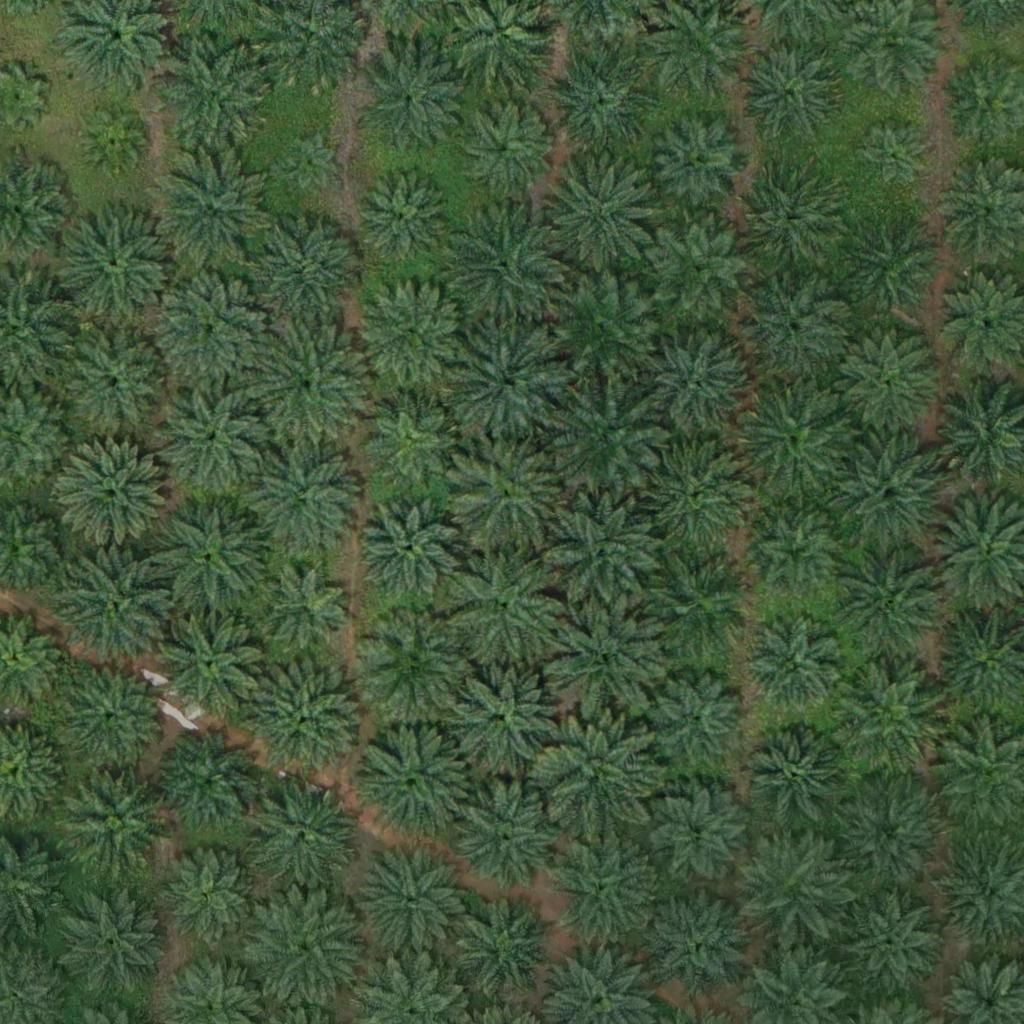Kelapa_Sawit: (543, 267, 656, 381), (449, 203, 562, 317), (355, 47, 468, 161), (550, 377, 663, 491), (835, 543, 948, 657), (449, 325, 562, 438), (152, 149, 265, 262), (156, 272, 269, 385), (58, 209, 171, 322), (58, 439, 171, 552), (151, 384, 264, 497), (154, 498, 267, 611), (155, 603, 268, 716), (249, 663, 362, 776), (359, 722, 472, 835), (450, 438, 563, 551), (545, 497, 658, 610), (547, 603, 660, 716), (541, 718, 654, 831), (739, 376, 852, 489), (836, 436, 949, 549), (355, 844, 468, 957), (246, 779, 359, 892), (251, 893, 364, 1006), (638, 328, 750, 442), (56, 764, 168, 878), (646, 436, 758, 550), (836, 668, 948, 782), (55, 888, 167, 1002), (737, 273, 849, 386), (543, 41, 655, 154), (545, 153, 657, 266), (356, 280, 468, 393), (250, 214, 362, 327), (252, 327, 364, 440), (161, 38, 273, 151), (58, 328, 170, 441), (56, 552, 168, 665), (54, 662, 166, 775), (246, 445, 358, 558), (358, 608, 470, 721), (452, 550, 564, 663), (450, 656, 562, 769), (643, 551, 755, 664), (832, 777, 944, 890), (735, 831, 847, 944), (547, 835, 659, 948), (454, 780, 566, 893), (842, 215, 942, 316), (840, 331, 940, 432), (740, 38, 840, 139), (737, 171, 837, 272), (650, 115, 750, 216), (650, 218, 750, 319), (157, 730, 257, 831), (257, 563, 357, 664), (361, 385, 461, 486), (357, 496, 457, 597), (647, 668, 747, 769), (649, 787, 749, 888), (749, 729, 849, 830), (843, 894, 943, 995), (649, 891, 749, 992), (459, 897, 559, 998), (454, 97, 554, 197), (352, 166, 452, 266), (744, 616, 844, 716), (158, 849, 258, 949), (750, 513, 838, 601), (853, 121, 928, 196), (82, 110, 145, 173), (279, 130, 341, 193)
